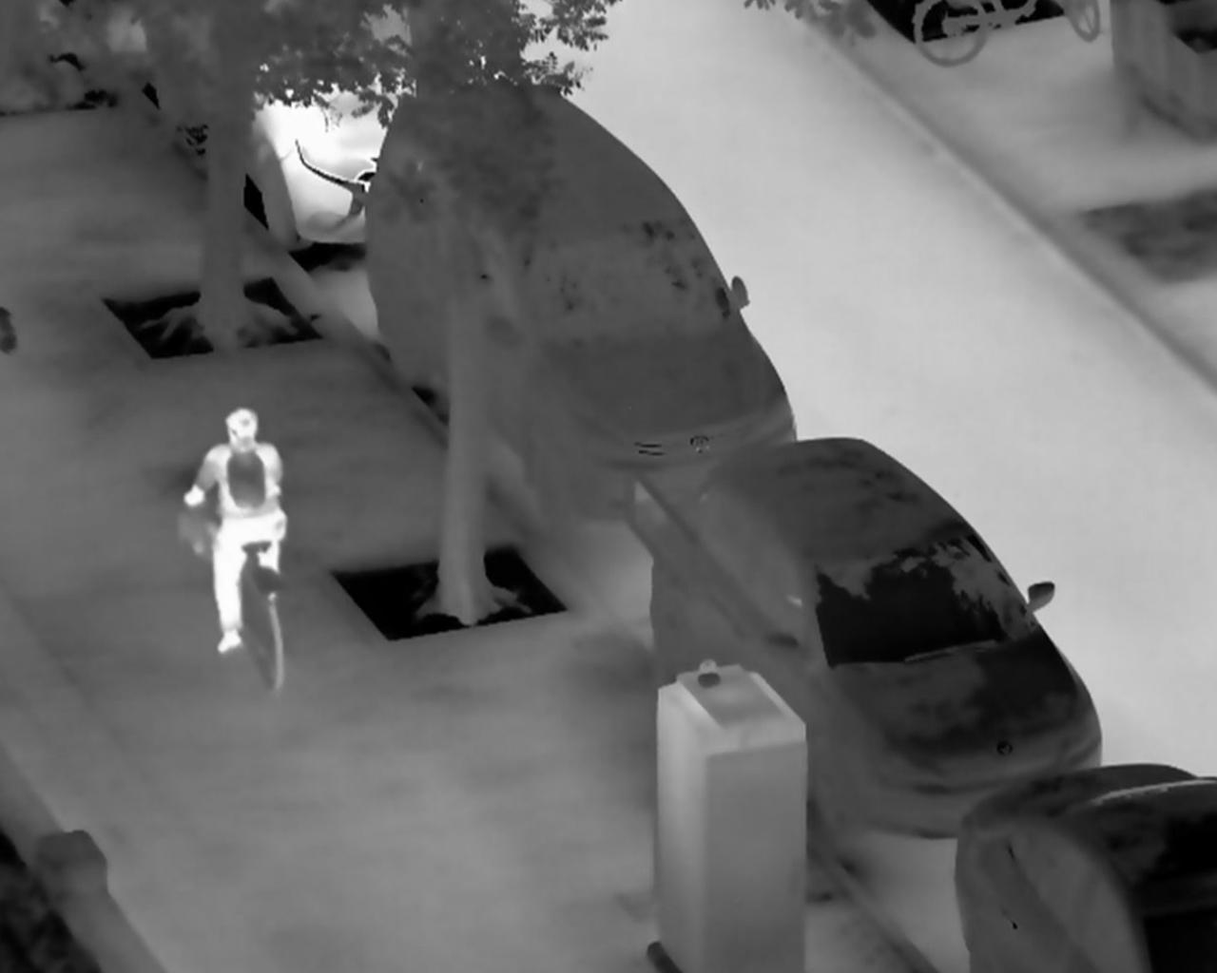person: (180, 406, 289, 659)
